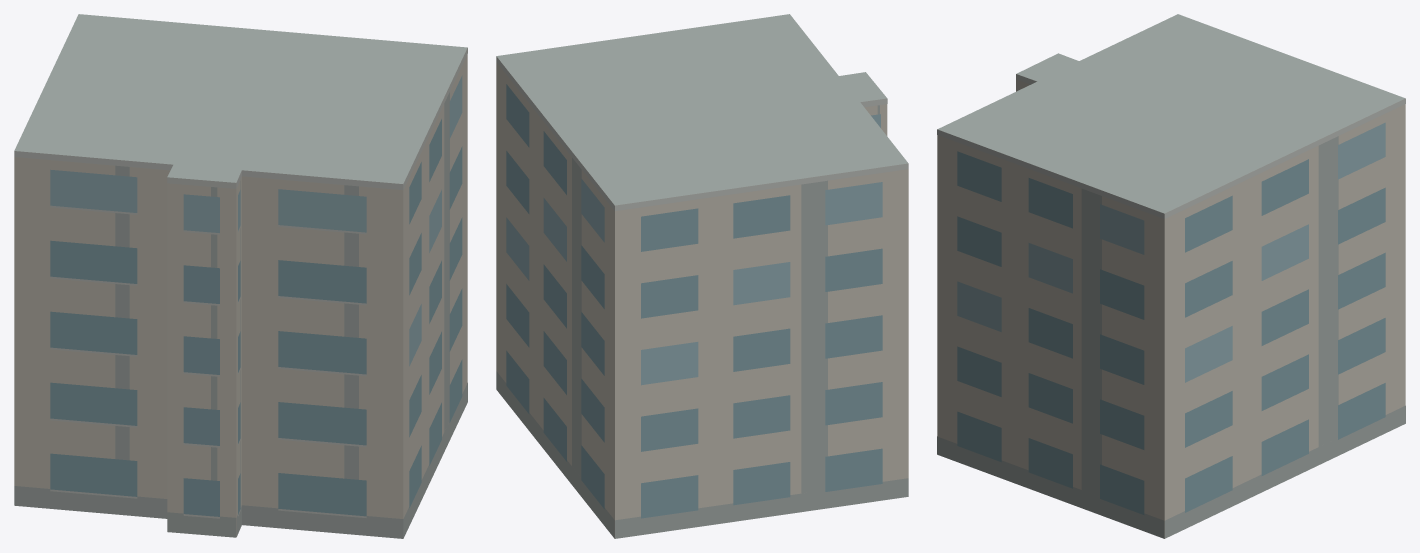
File: survey-upis-32994263.glb
The picture shows the model from 3 angles, left to right: view 1: azimuth 30°, elevation 25°; view 2: azimuth 150°, elevation 25°; view 3: azimuth 270°, elevation 25°; orthographic projection. The views are drawn at different scales.
Visible parts, largest first — view 1: survey-upis-32994263.tmp; view 2: survey-upis-32994263.tmp; view 3: survey-upis-32994263.tmp.
Part boxes in pixels (x1,y1,x2,y2): survey-upis-32994263.tmp: [14, 14, 467, 538]; survey-upis-32994263.tmp: [496, 14, 908, 538]; survey-upis-32994263.tmp: [937, 14, 1405, 538].
Bounding box in the file's own units: 18.78 × 14.26 × 18.62.
